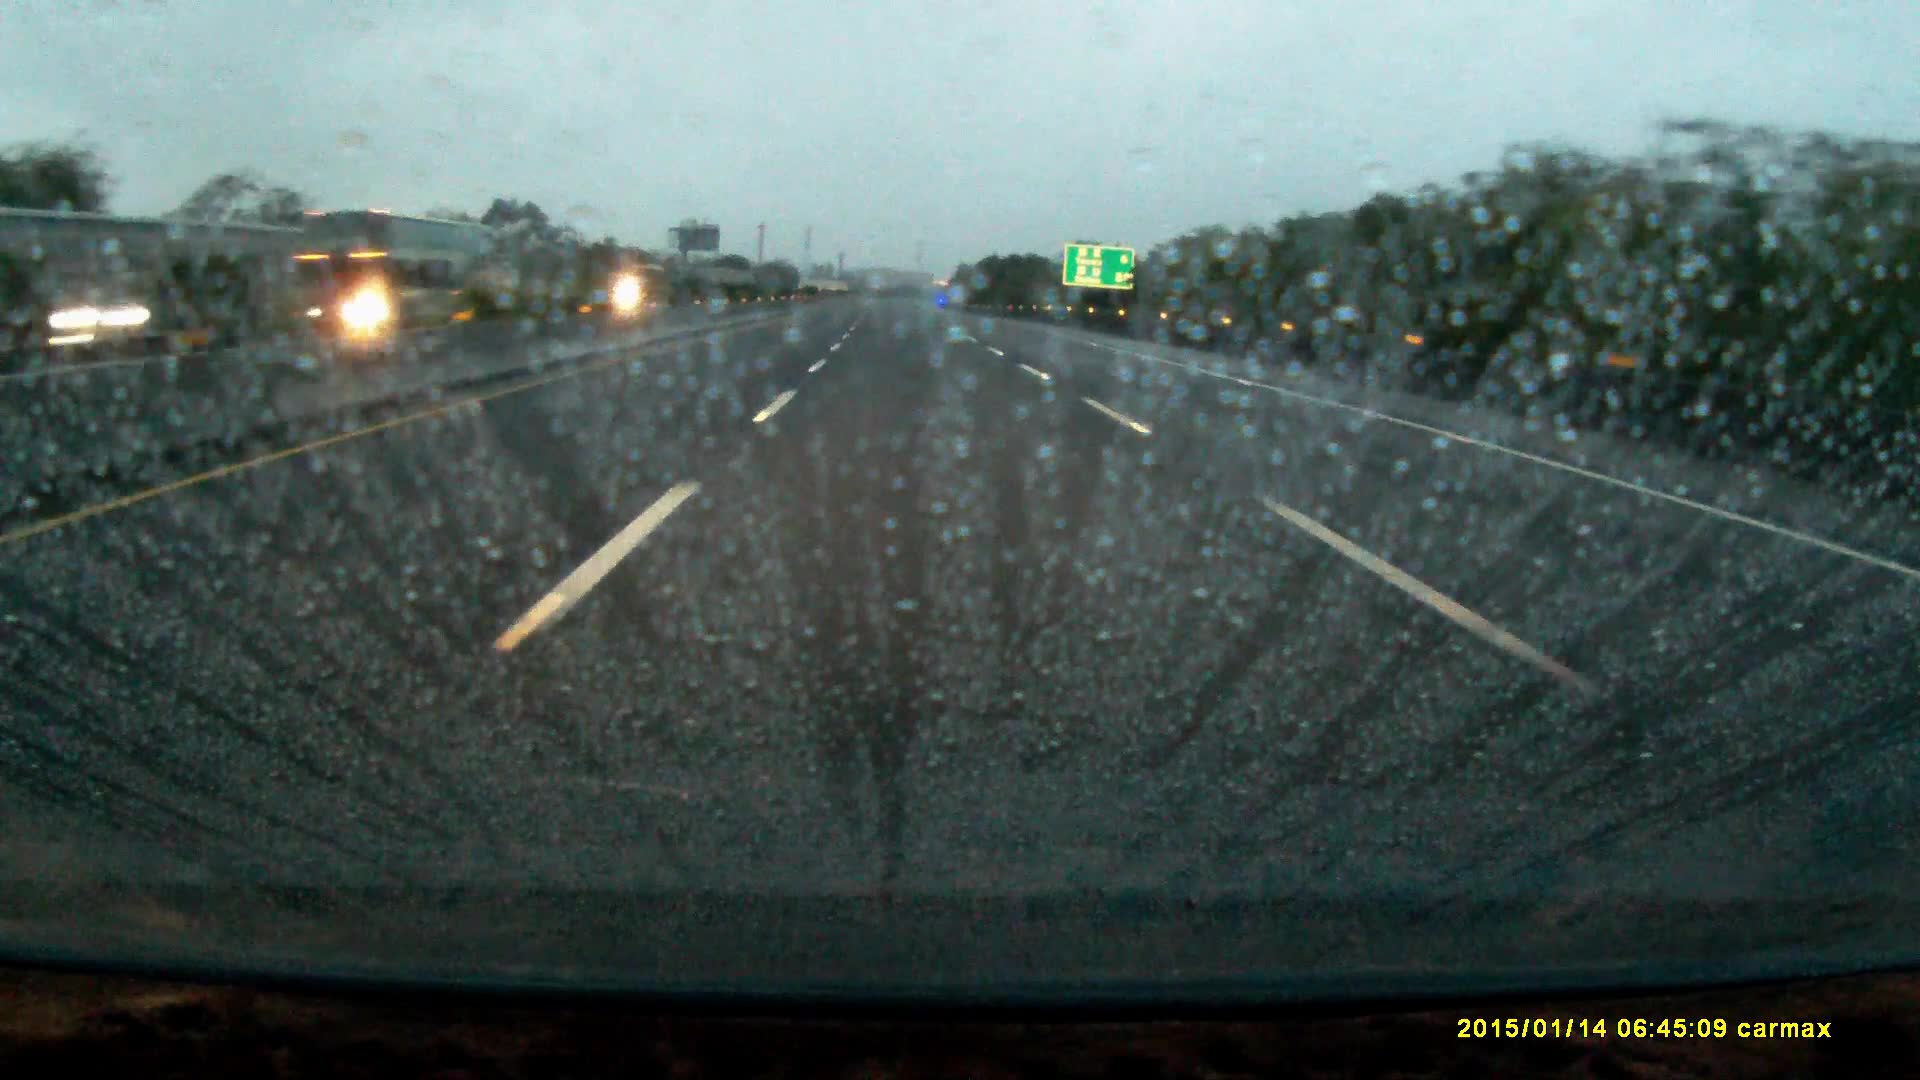vehicle: (290, 210, 487, 328), (73, 273, 222, 352), (626, 268, 684, 306)
